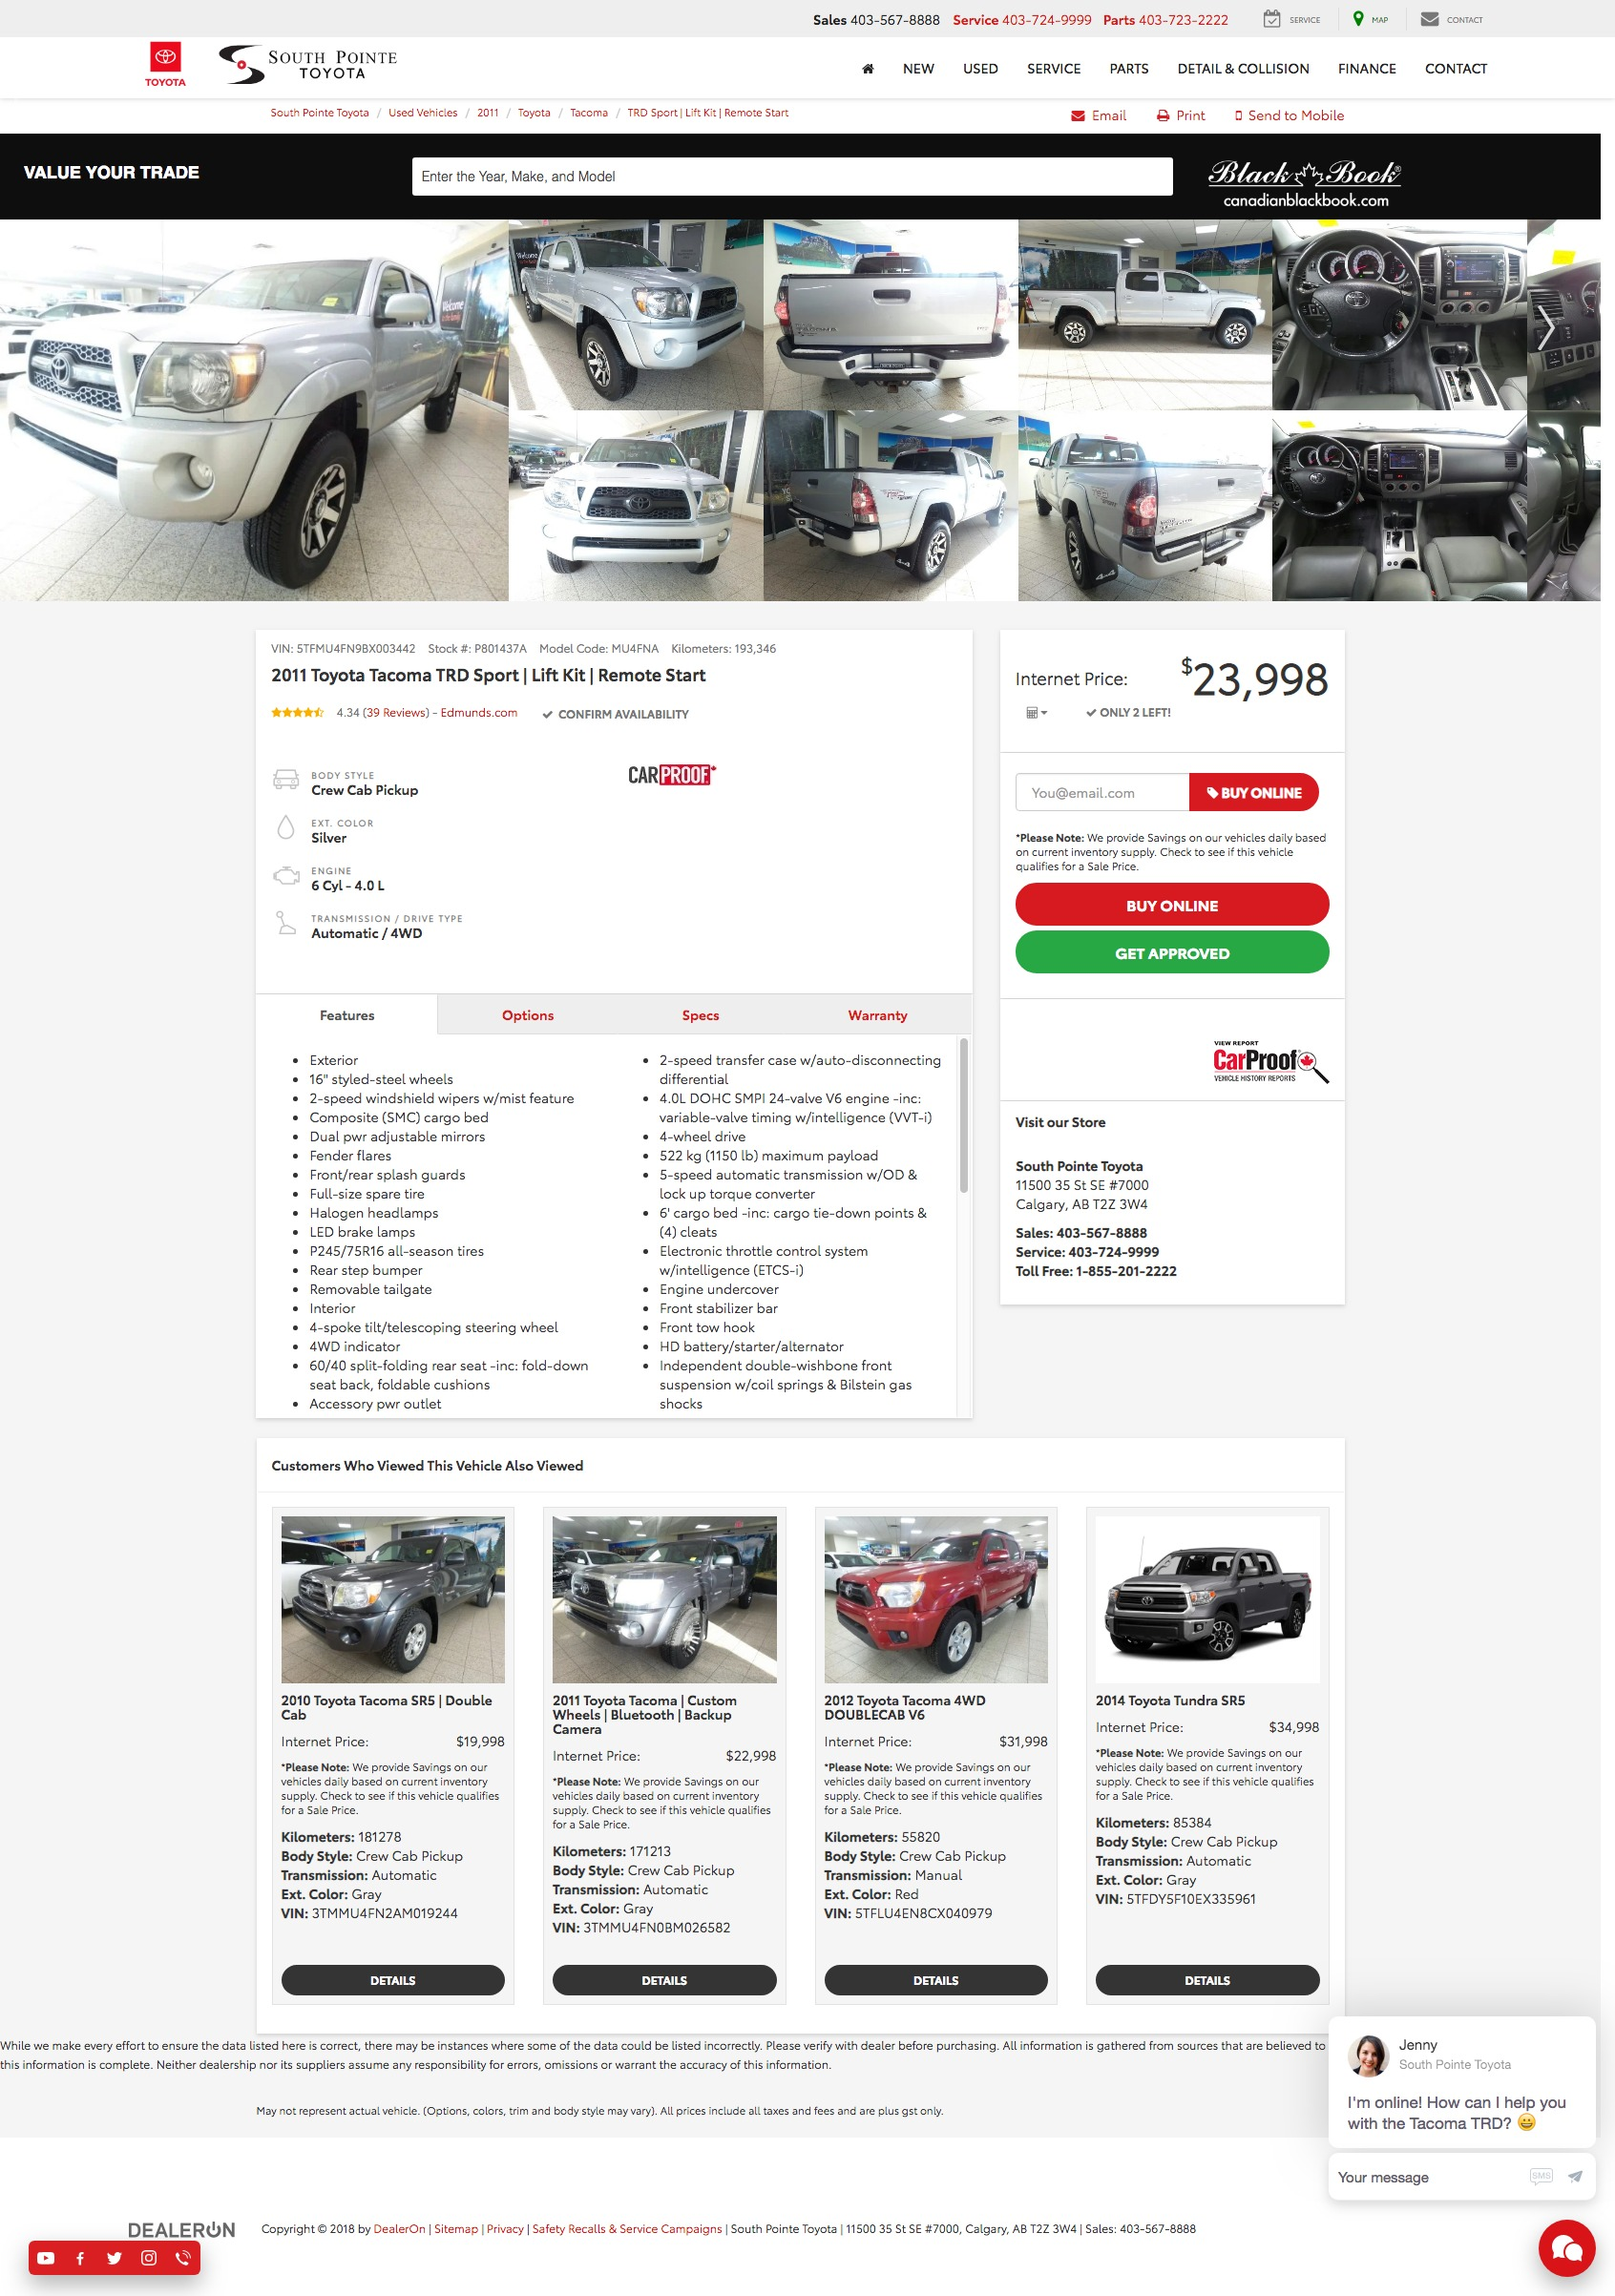car: (1538, 306, 1556, 353)
